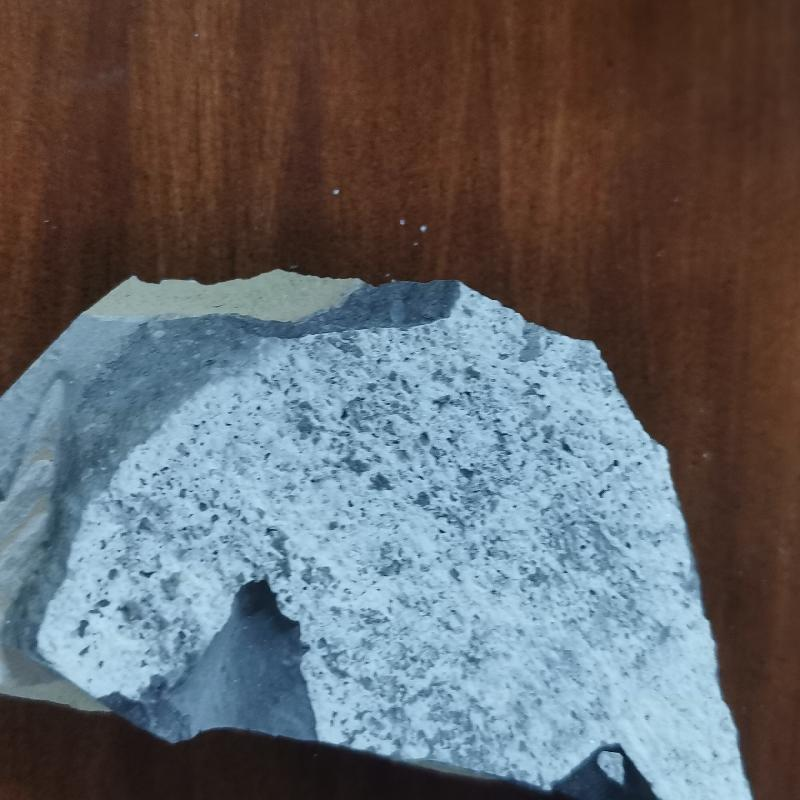tile: (4, 265, 762, 800)
